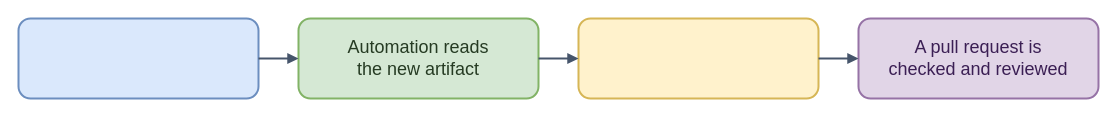
The diagram is 1116 pixels wide and 116 high, and some of its shapes have lost their labels. The box of each missing label's shape, as (x1, y1, x2, y2) in pixels:
An artifact version or URL changes: (17, 17, 259, 99)
The matching checksum is updated: (577, 17, 819, 99)
